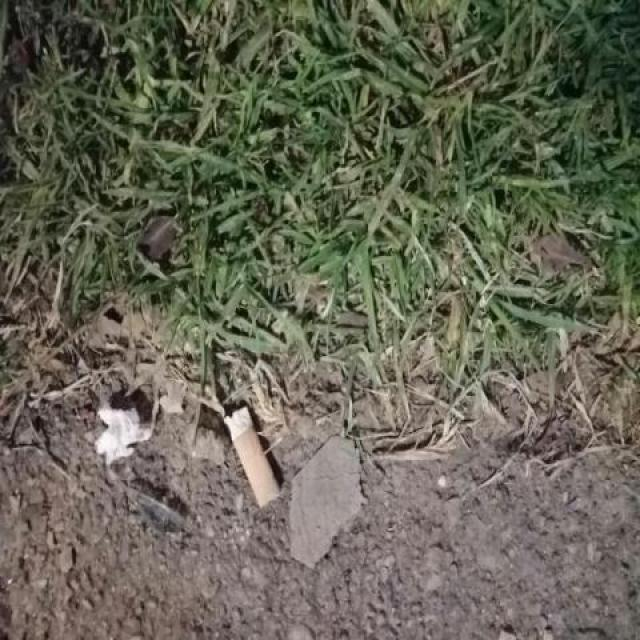non-organic waste: (218, 400, 286, 513)
